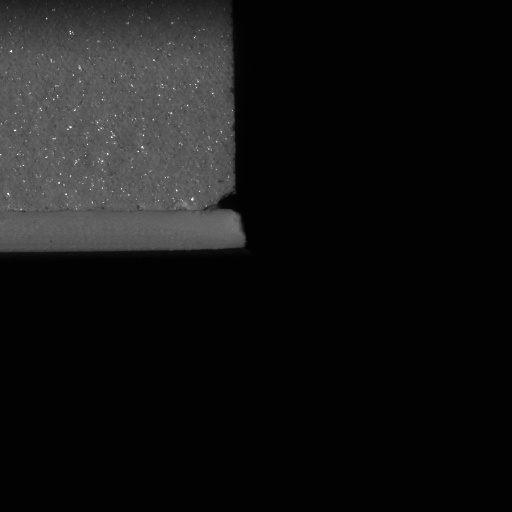bengque: (202, 186, 243, 214)
